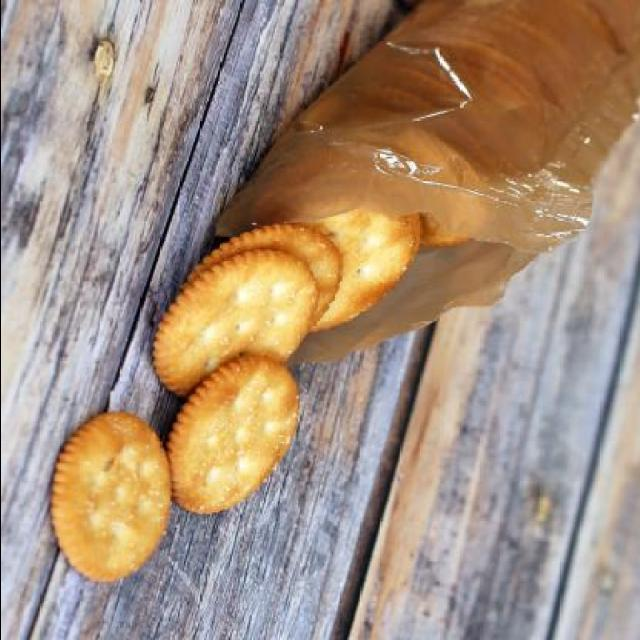Ritz cracker packaged: (47, 221, 344, 584)
